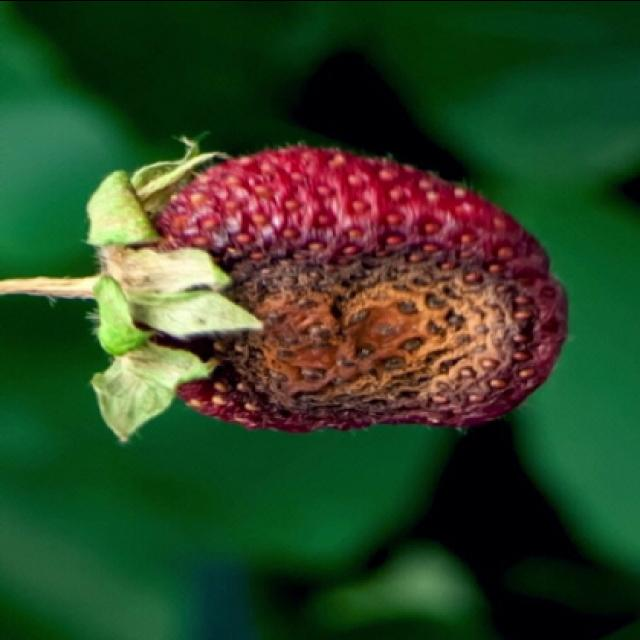Anthracnose Fruit Rot: (154, 192, 564, 431)
